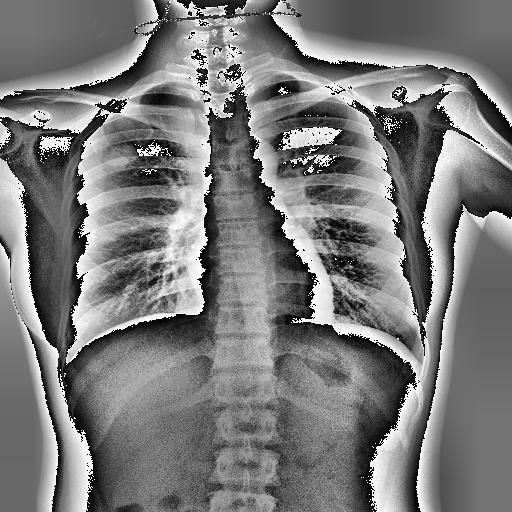7- Lung Opacity: (105, 143, 137, 167)
8- Nodule-Mass: (103, 144, 138, 167), (102, 144, 138, 166), (105, 143, 137, 167)
